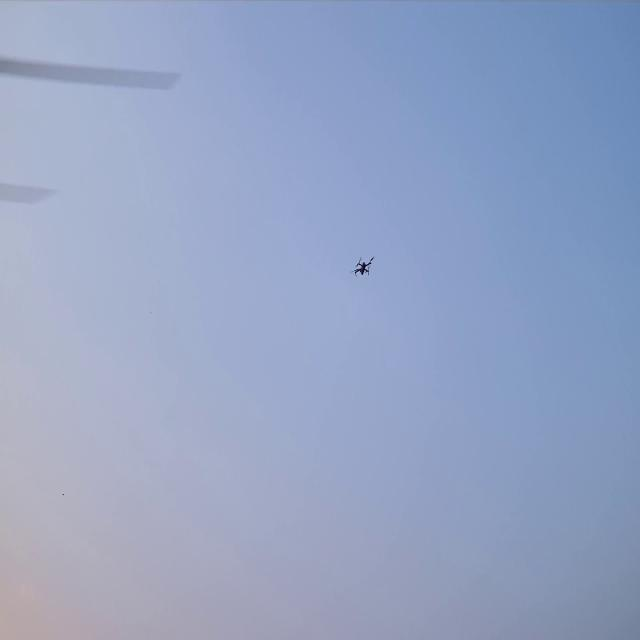UAV: (349, 253, 375, 279)
